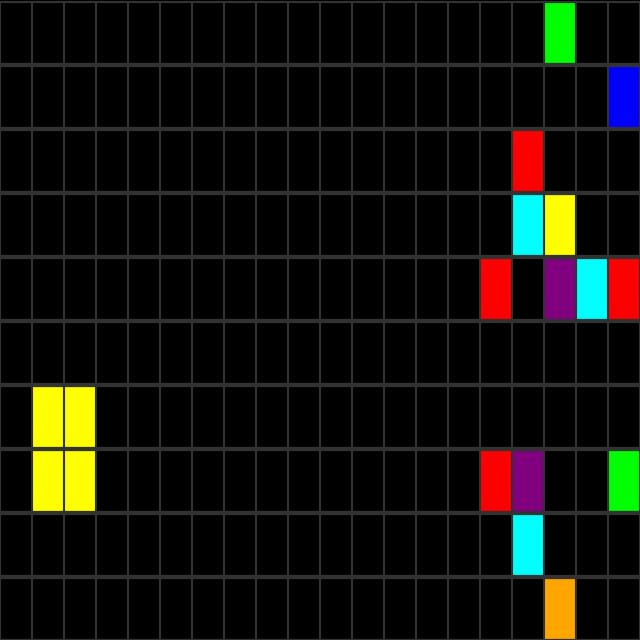Tetrimino_O: (36, 390, 94, 506)
